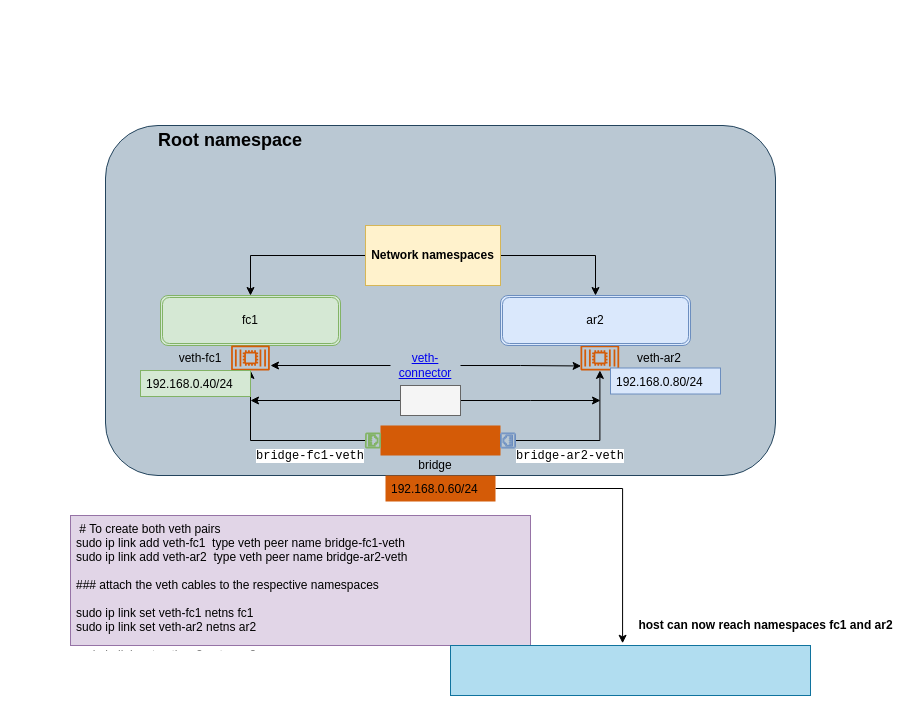
This 917x713 diagram has some shape labels left out. Each missing label, with the centre of its shape:
ground-bridge: [440,440]
sudo ip addr add 192.168.0.60/24 brd + dev ground-bridge: [630,670]
veth: [430,400]
